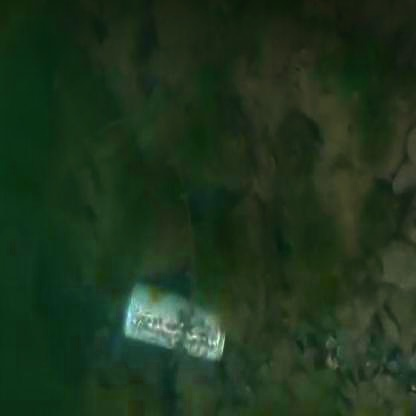can: (114, 275, 240, 381)
